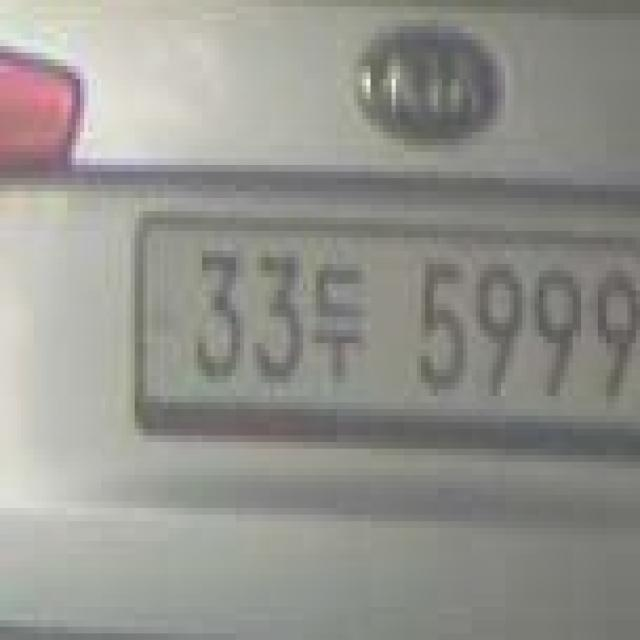3: (194, 238, 244, 390), (253, 238, 299, 382)
5: (413, 257, 467, 396)
9: (531, 264, 585, 402), (472, 258, 522, 402), (593, 257, 640, 409)
du: (308, 257, 370, 383)
license_plate: (134, 211, 640, 442)
